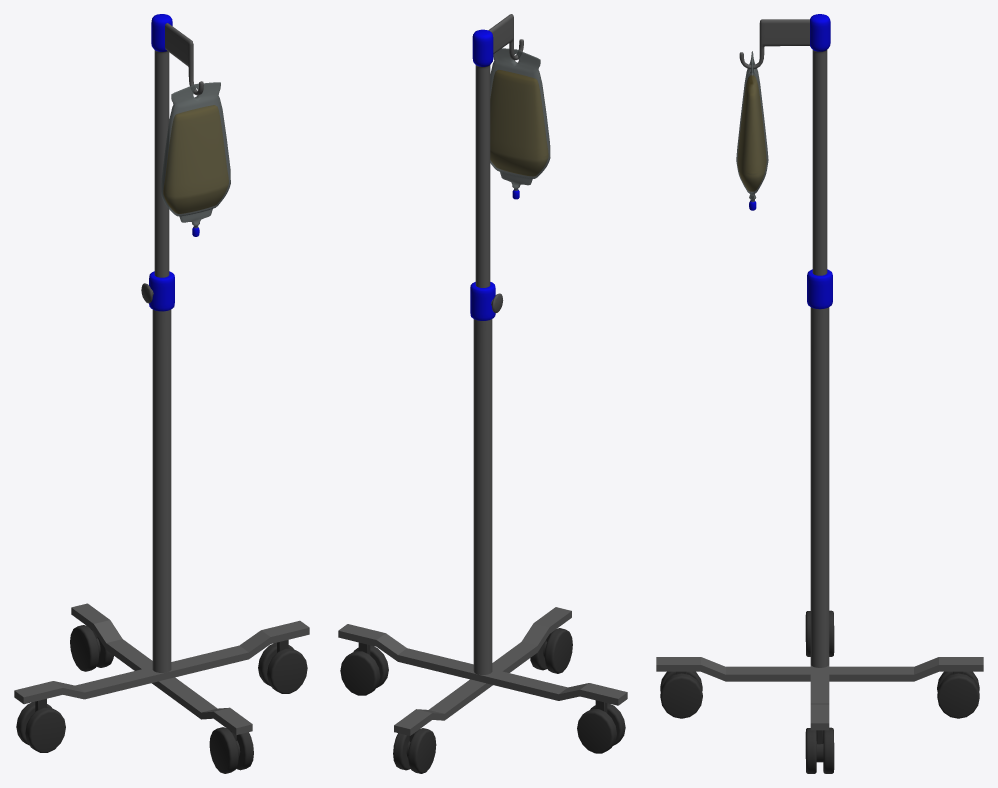
File: HangingBags.fbx
The picture shows the model from 3 angles, left to right: view 1: azimuth 30°, elevation 25°; view 2: azimuth 150°, elevation 25°; view 3: azimuth 270°, elevation 25°; orthographic projection. The views are drawn at different scales.
Visible parts, largest first — view 1: Base, BottomPole, Bag, FullFluid, TopPole, Wheel3, Wheel4, Wheel2, Wheel, Hook; view 2: Base, BottomPole, Bag, FullFluid, TopPole, Wheel3, Wheel4, Wheel, Wheel2, Hook; view 3: BottomPole, Base, TopPole, Bag, FullFluid, Wheel, Wheel2, Hook, Wheel4.
Boxes of the visible parts, x1,y1,x2,y2 form: Base: (14,603,309,734); BottomPole: (149,271,174,674); Bag: (161,82,230,236); FullFluid: (163,105,228,213); TopPole: (151,14,172,277); Wheel3: (16,698,65,752); Wheel4: (258,640,307,693); Wheel2: (209,727,253,773); Wheel: (70,625,113,671); Hook: (165,23,203,95); Base: (338,607,627,735); BottomPole: (470,282,495,674); Bag: (490,48,550,199); FullFluid: (490,70,548,176); TopPole: (472,29,493,287); Wheel3: (577,700,625,753); Wheel4: (340,642,388,695); Wheel: (393,728,436,773); Wheel2: (530,628,572,673); Hook: (488,14,523,60); BottomPole: (807,269,832,667); Base: (656,657,983,730); TopPole: (810,14,830,275); Bag: (736,51,768,210); FullFluid: (738,75,766,191); Wheel: (937,671,979,718); Wheel2: (660,671,702,718); Hook: (739,19,809,69); Wheel4: (805,727,834,773).
Size of the model in its own units: 3.41 by 8 by 3.41.
